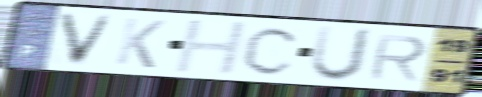C: (239, 24, 304, 77)
H: (171, 18, 252, 76)
K: (112, 15, 169, 70)
R: (365, 33, 430, 83)
U: (306, 24, 378, 85)
V: (56, 10, 119, 68)
